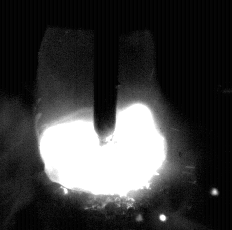arame: (95, 0, 117, 145)
poca: (37, 0, 168, 230)
